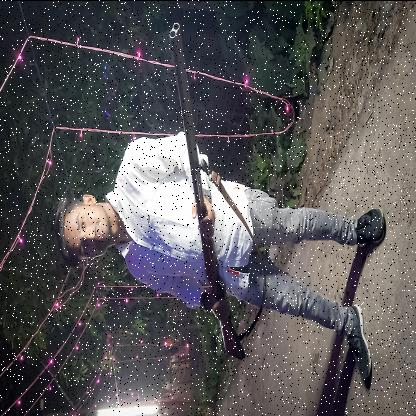rifle: (168, 20, 246, 362)
